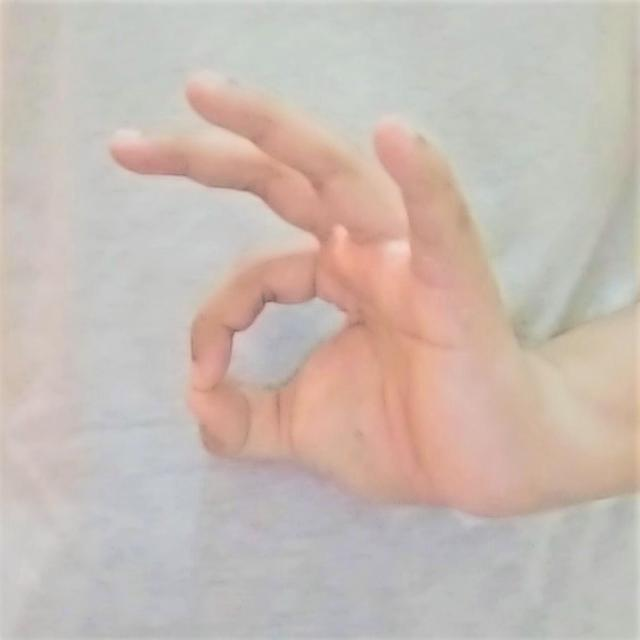O: (86, 67, 523, 532)
